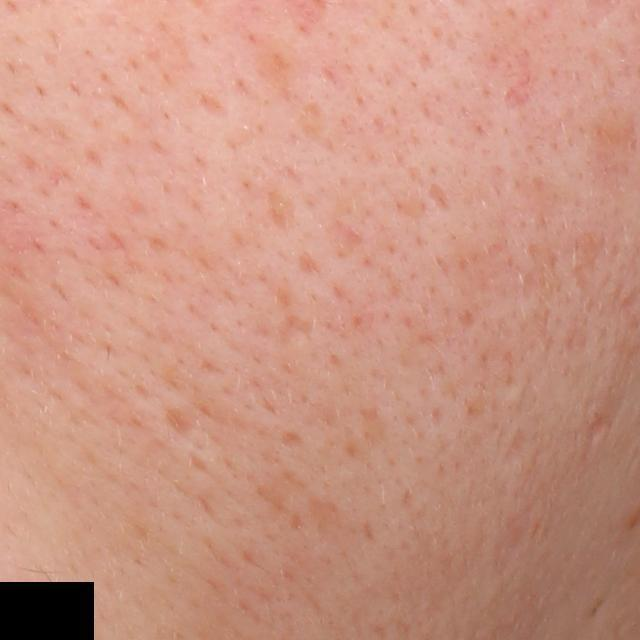atrophic_scar: (268, 182, 305, 233), (166, 404, 201, 443), (272, 318, 315, 343), (426, 177, 453, 206)
